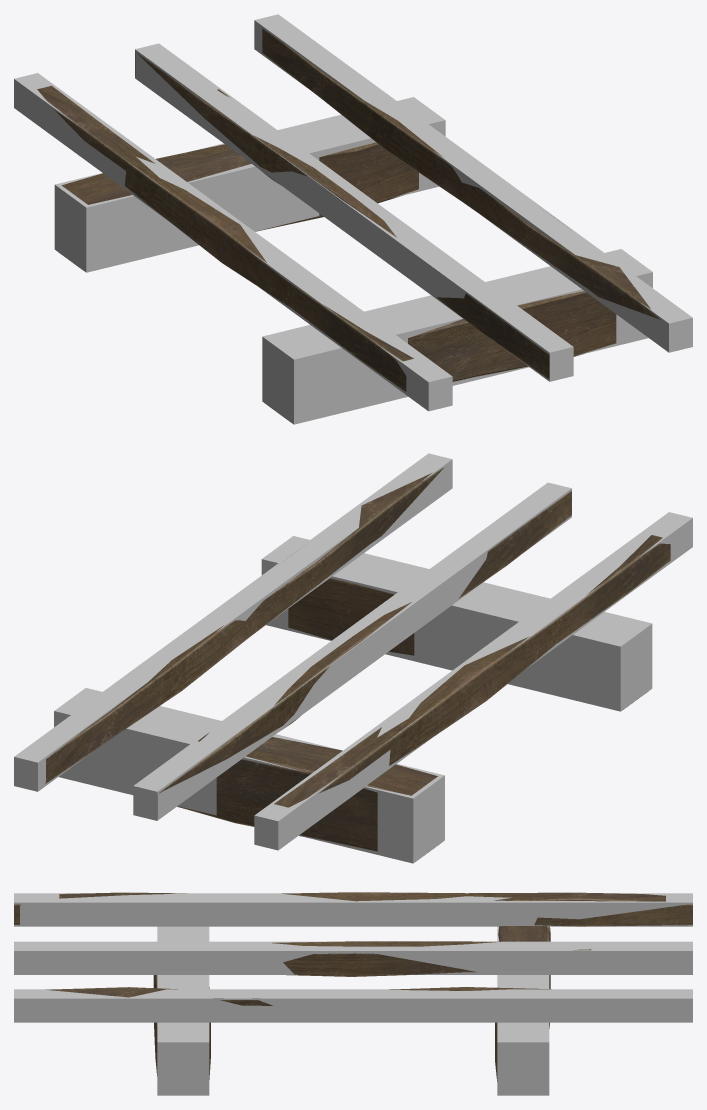
The model's file is SM_WoodenBeam_02b.fbx.
3 renders of one model, top to bottom at view 1: azimuth 30°, elevation 25°; view 2: azimuth 150°, elevation 25°; view 3: azimuth 270°, elevation 25°, orthographic. The views are drawn at different scales.
Visible parts, largest first — view 1: SM_WoodenBeam_02b_ConvexHulls, SM_WoodenBeam_02b; view 2: SM_WoodenBeam_02b_ConvexHulls, SM_WoodenBeam_02b; view 3: SM_WoodenBeam_02b_ConvexHulls, SM_WoodenBeam_02b.
Part boxes in pixels (x1,y1,x2,y2): SM_WoodenBeam_02b_ConvexHulls: (14,14,692,424); SM_WoodenBeam_02b: (37,28,660,422); SM_WoodenBeam_02b_ConvexHulls: (14,453,692,863); SM_WoodenBeam_02b: (45,468,670,855); SM_WoodenBeam_02b_ConvexHulls: (14,893,692,1095); SM_WoodenBeam_02b: (14,892,692,1081).
Size of the model in its own units: 150 by 300 by 40.56.
